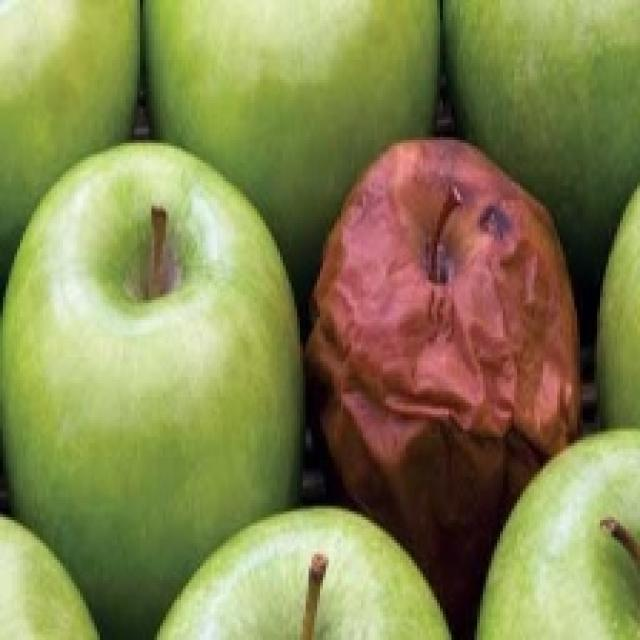rotten_apple: (333, 146, 578, 449)
